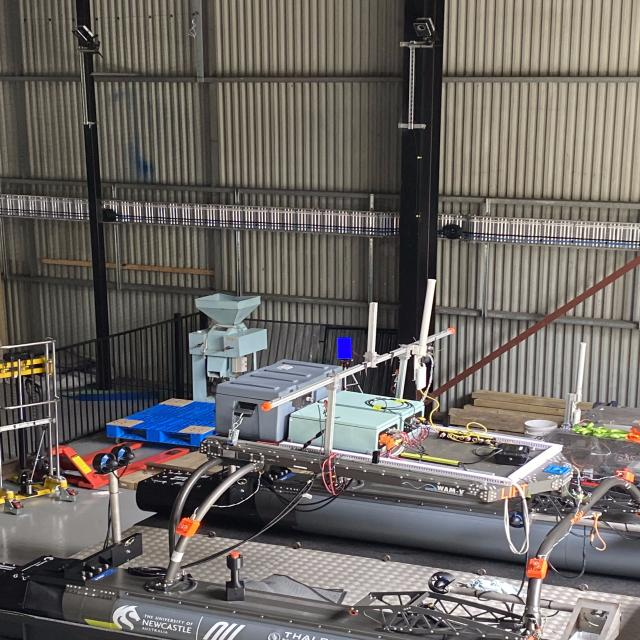matrix: (331, 332, 355, 362)
